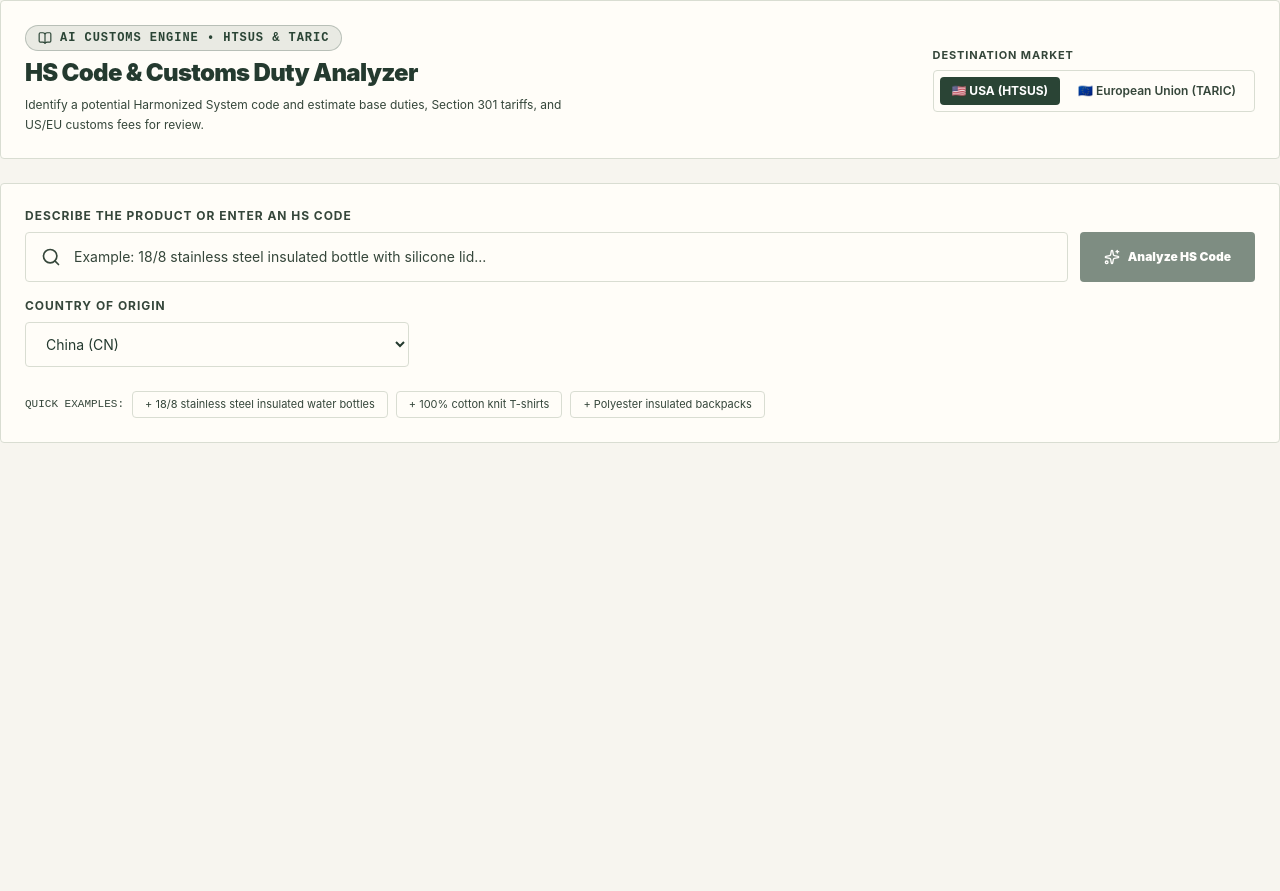
it: HsCodeAnalyzer › submits accessible market, origin, and product controls
The width and height of the screenshot is (1280, 891).
Click the button "🇪🇺 European Union (TARIC)" at (1157, 91), box [1066,77,1248,105]
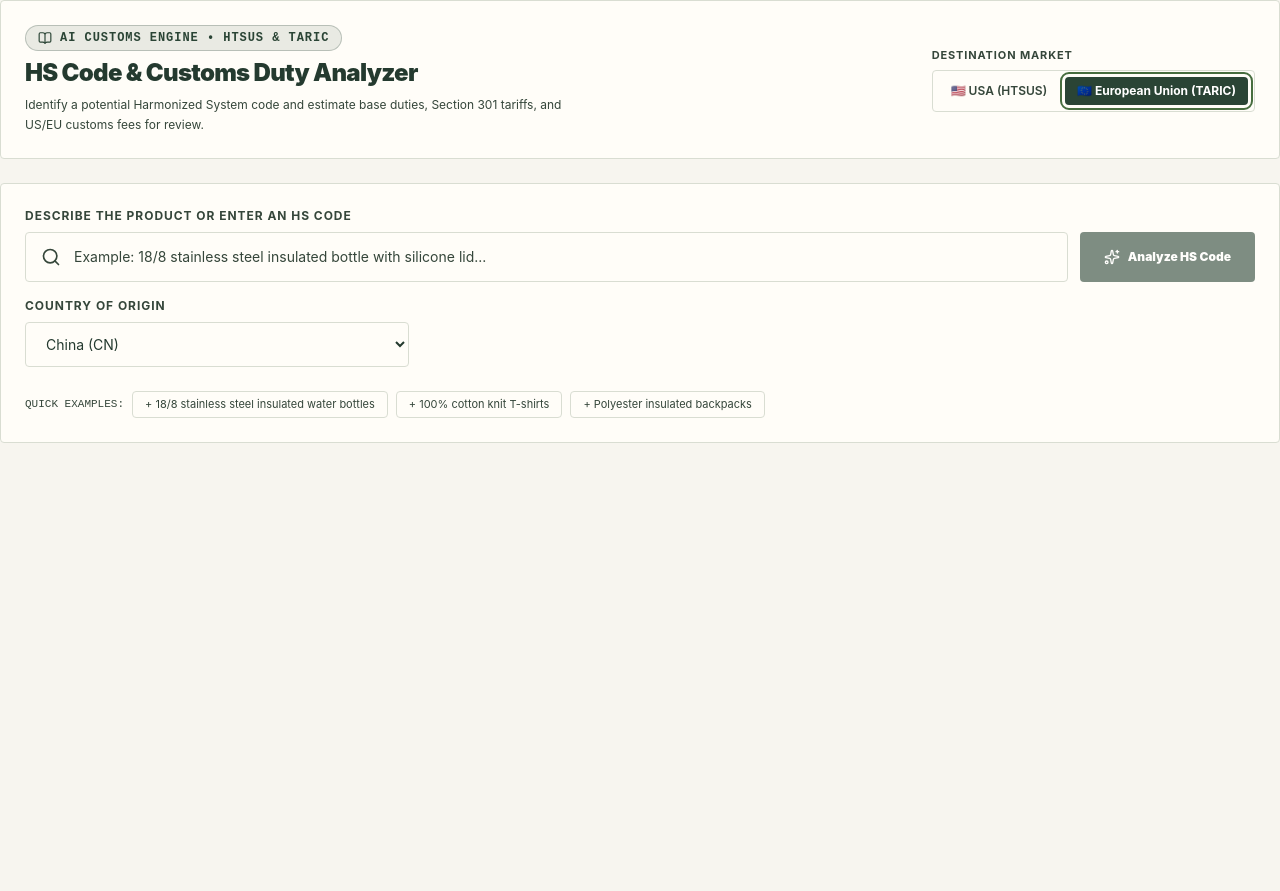
Select "Vietnam (VN)" in the dropdown labelled "Country of origin" at (217, 344), box [25,322,409,367]
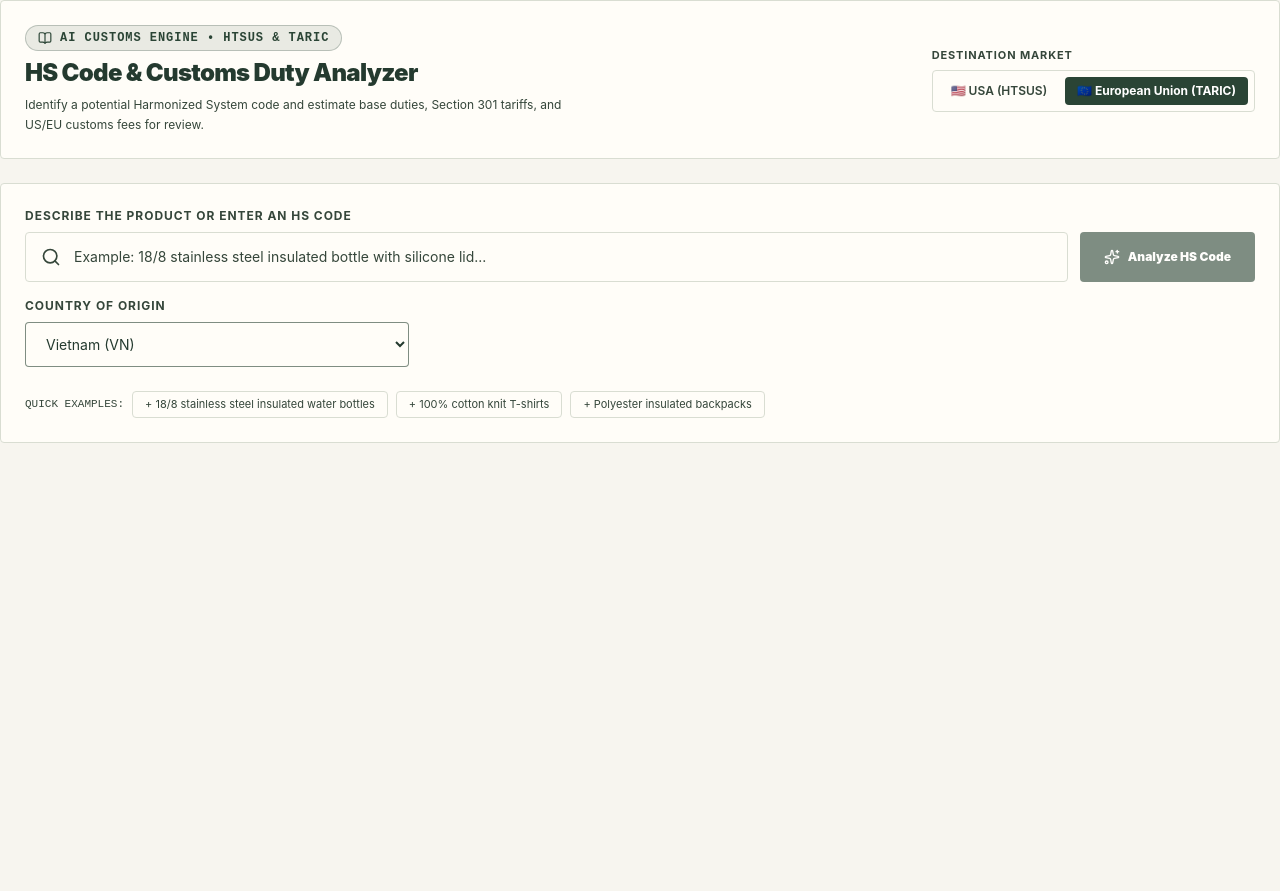
Type "cotton T-shirt" into the field labelled "Describe the product or enter an HS code" at (546, 257), box [25,232,1068,282]
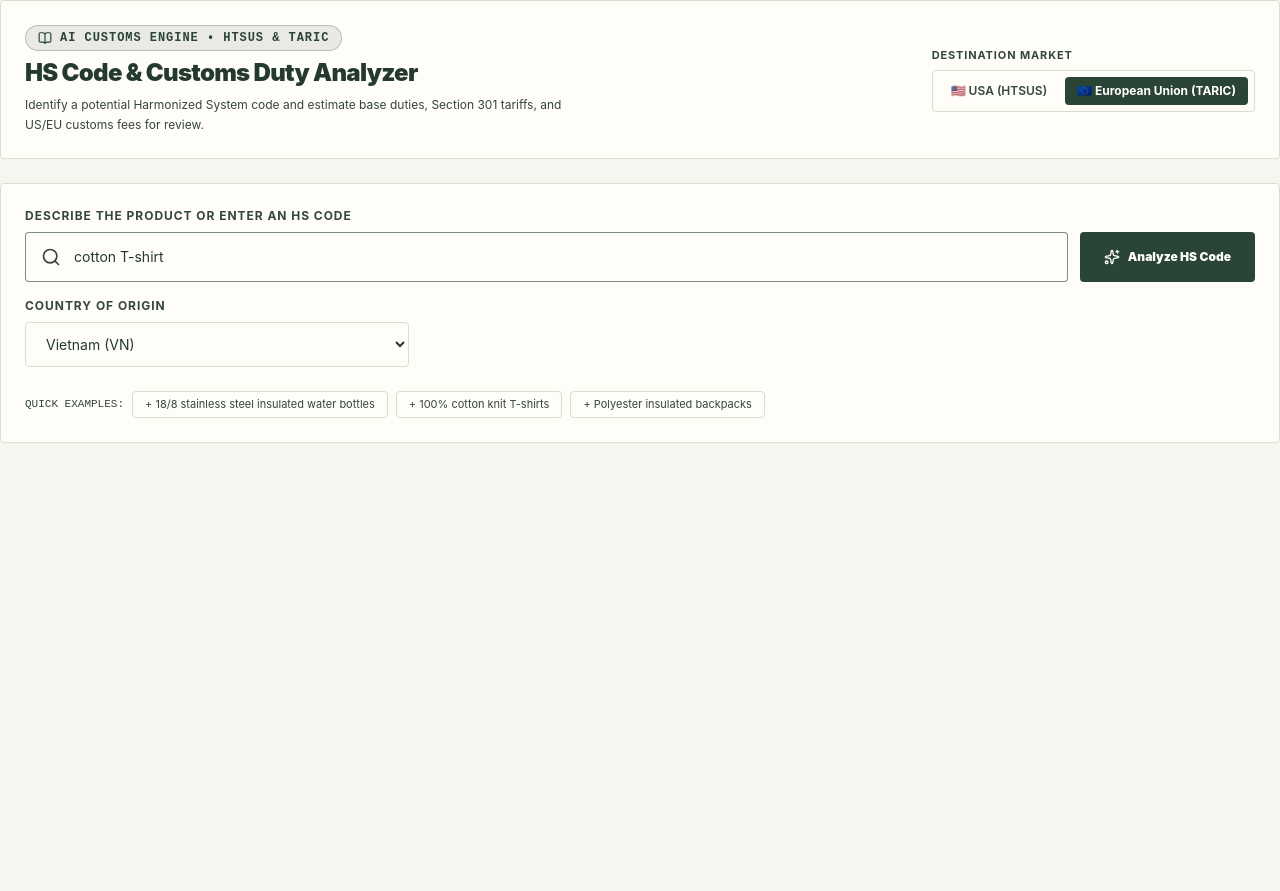
Click the button "Analyze HS Code" at (1167, 257), box [1080,232,1255,282]
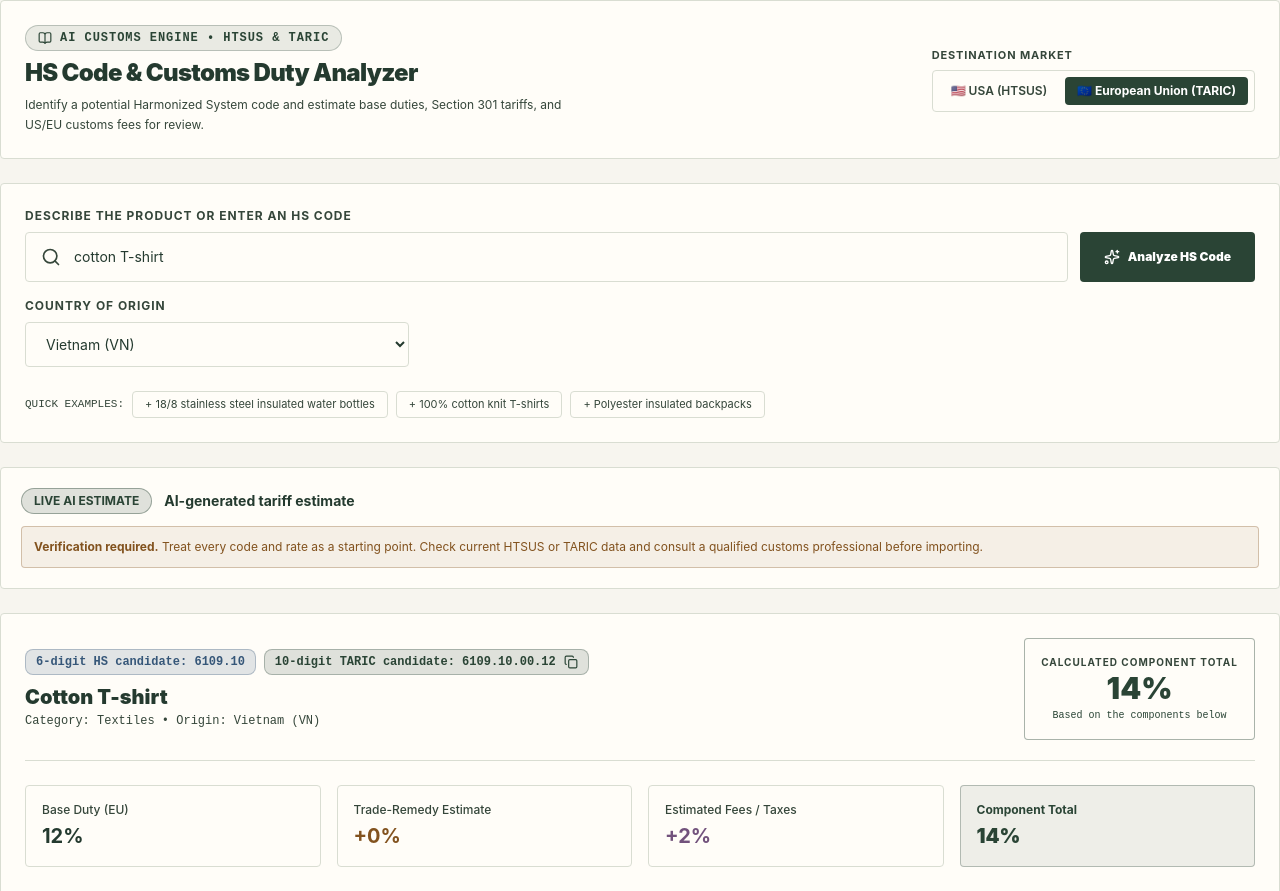
Now the text "Live AI estimate" is shown, box [21,488,152,514]
Now the text "AI-generated tariff estimate" is shown, box [164,490,355,510]
Now the text "Verification required." is shown, box [34,538,158,554]
